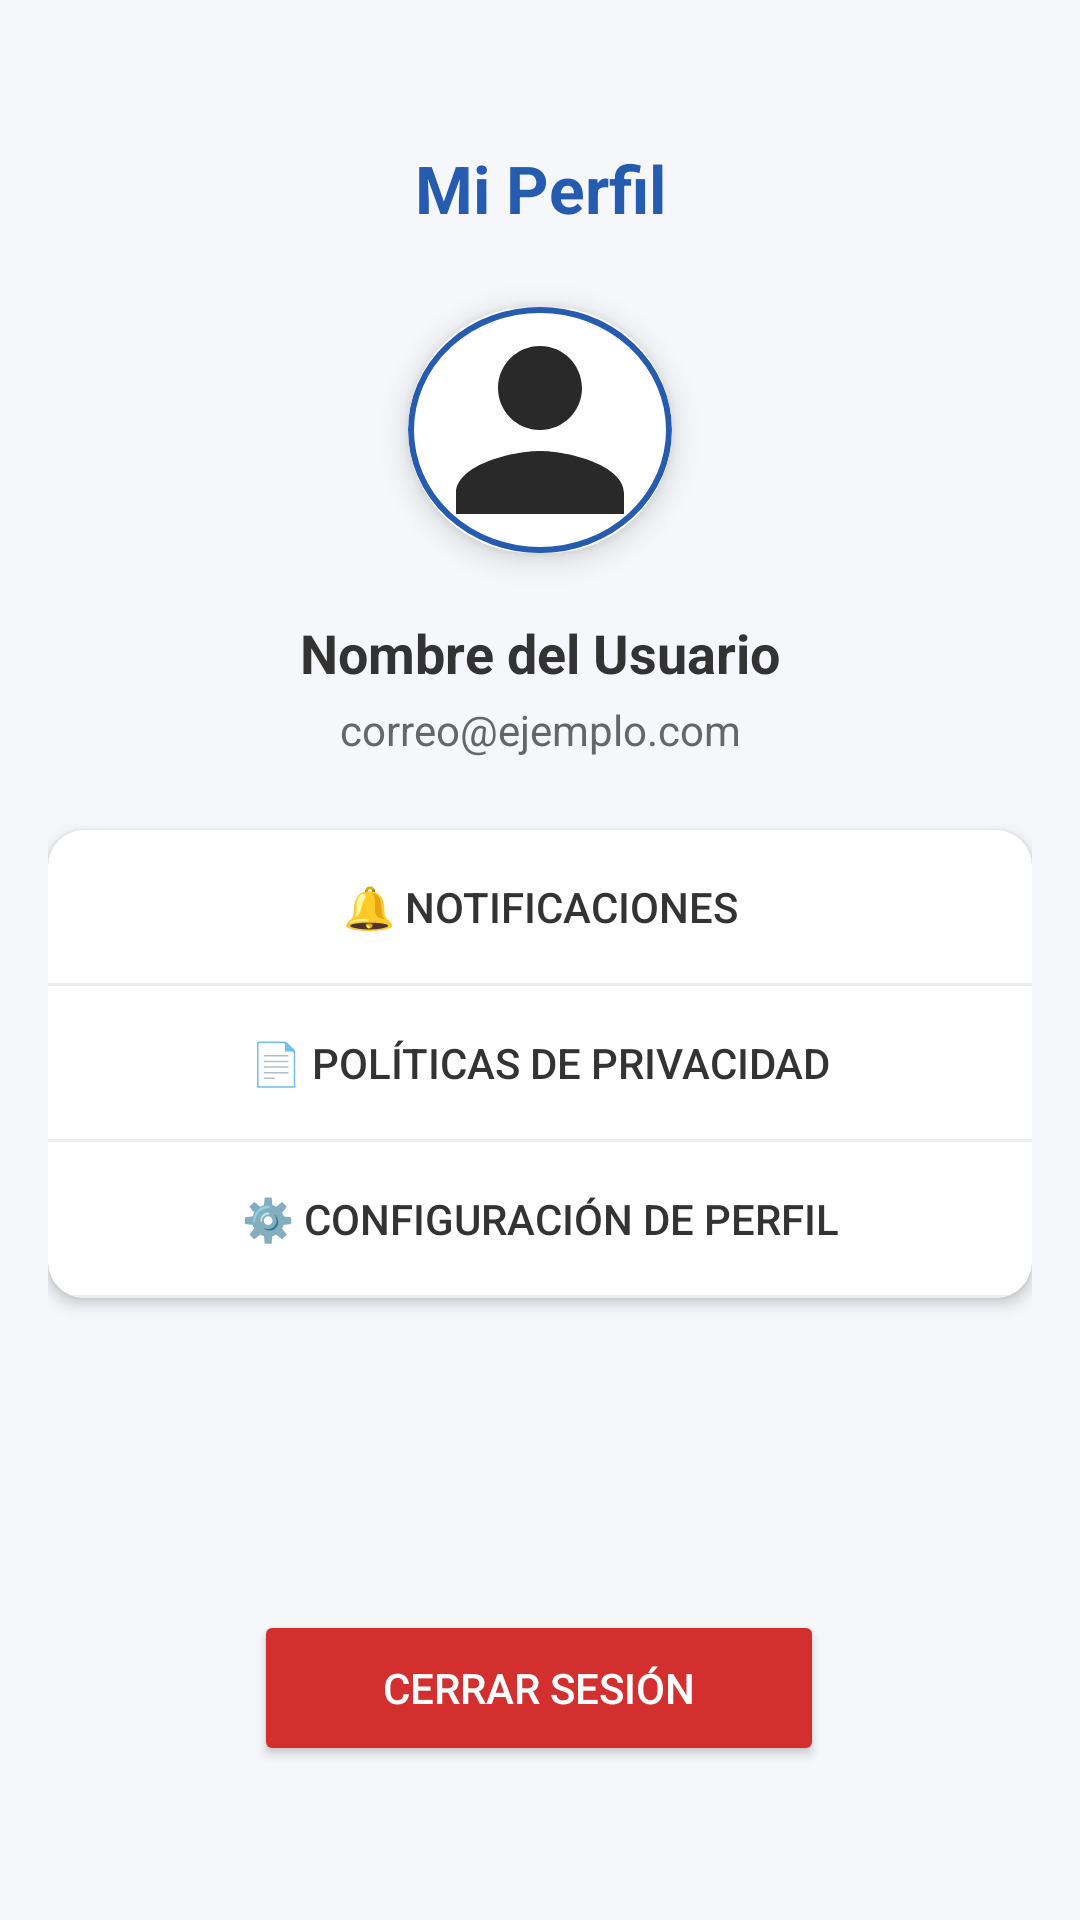

Icons on this 1080×1920 Android screen, each with its box as rect(x1, y1, x2, y2):
Imagen de perfil del usuario: rect(408, 307, 672, 553)
